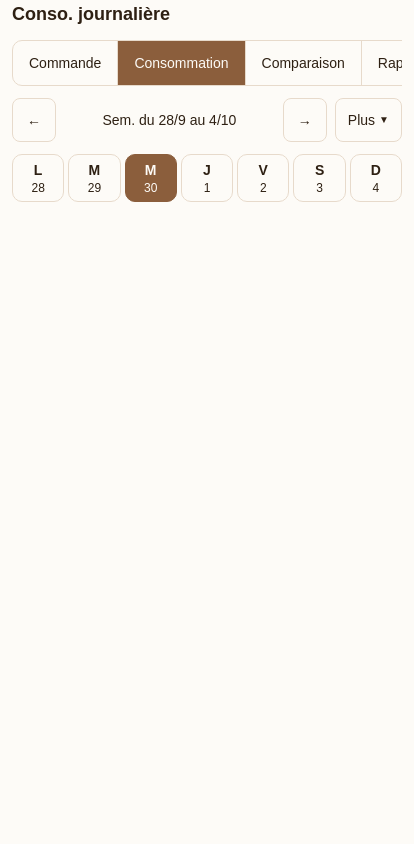
Test case: haut de la Conso. journalière › « Plus » range le filtre Cuisine / Bar, « Cette semaine », la vue semaine, les exports et l'aide
What coordinates should you click on to do the following:
click the button "Plus ▼"
I would click on:
 (368, 120)
Its box is 335,98 -> 402,142.
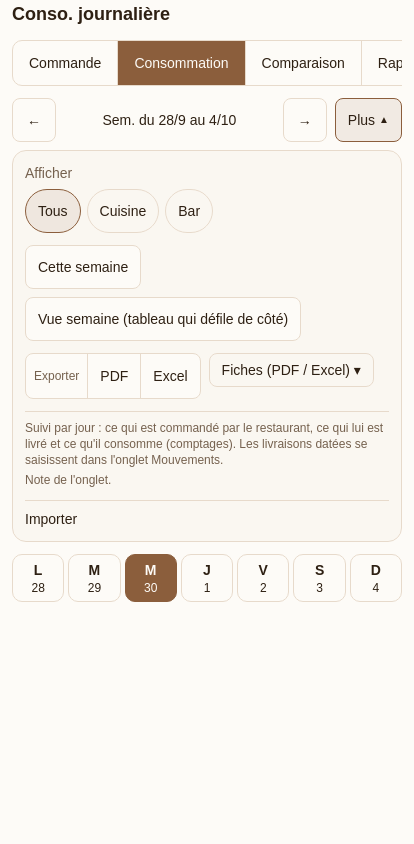
Expected: the element that starts with "Afficher" shows "Tous", 25,189 -> 81,233
Expected: the element that starts with "Afficher" shows "Cuisine", 87,189 -> 159,233
Expected: the element that starts with "Afficher" shows "Bar", 165,189 -> 213,233
